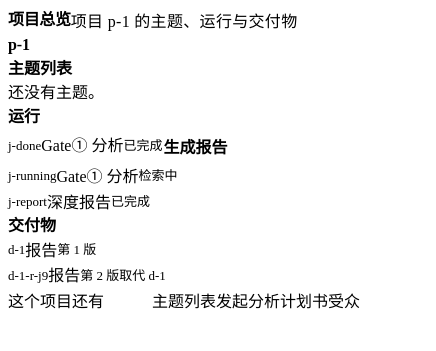
Test: CHAIN-UI-01-a · 点了发什么、之后去哪 › 被拒：服务端那句话原样上屏，不跳走
expect the element that starts with "p-1" is shown: met, box [8,36,228,284]
Click the button "生成报告" at (196, 146), box [162,128,228,164]
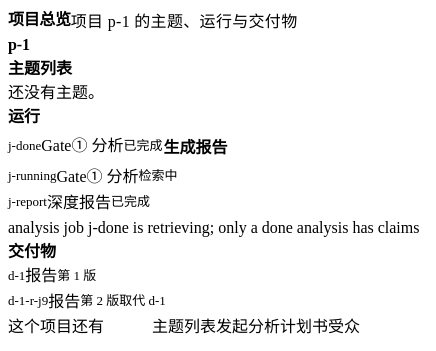
expect the message "analysis job j-done is retrieving; only a done analysis has claims" is shown: met, box [8,219,420,236]
